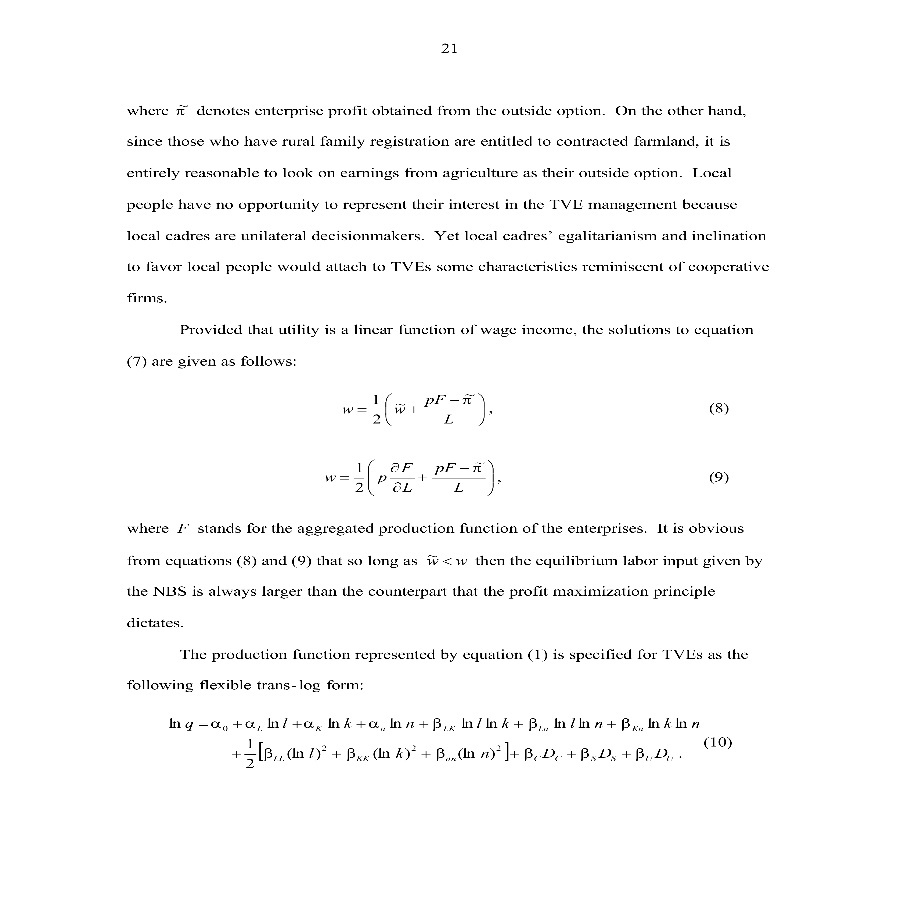eq: (160, 712, 704, 766), (323, 454, 500, 500), (334, 388, 487, 431)
